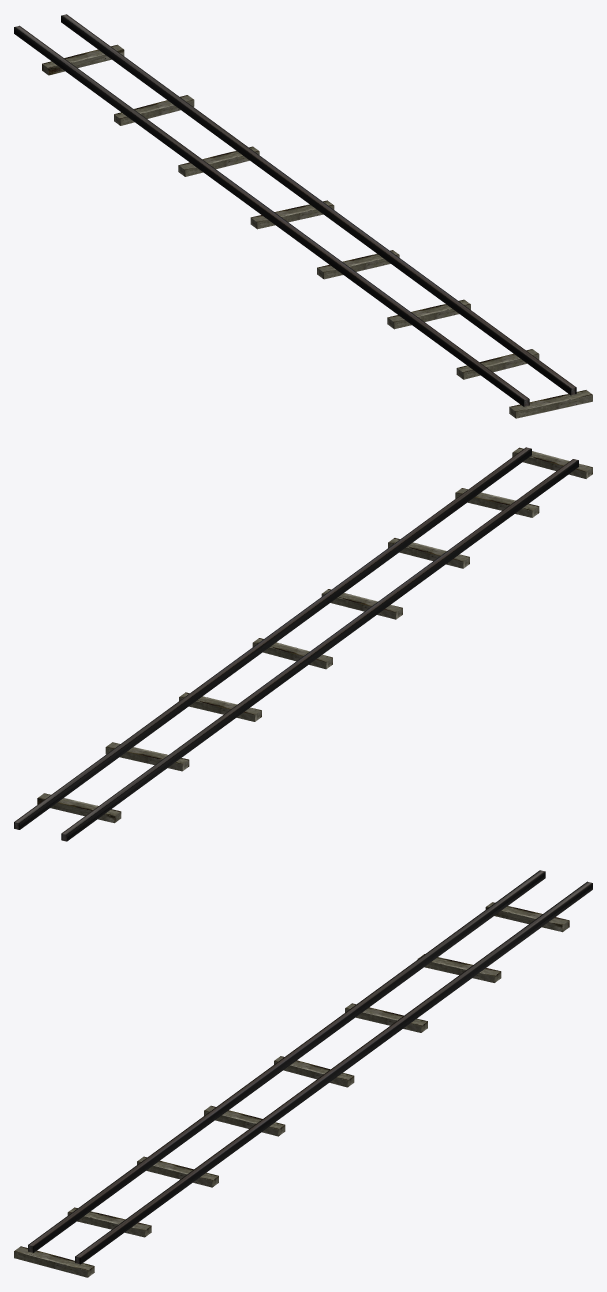
The model's file is pir_m_prp_mng_track_straight_no_dirt.fbx.
3 renders of one model, top to bottom at view 1: azimuth 30°, elevation 25°; view 2: azimuth 150°, elevation 25°; view 3: azimuth 330°, elevation 25°, orthographic.
Parts seen in each view (by area): view 1: rail_1, rail, pCube19, pCube20, pCube12, pCube17, pCube7, pCube14, pCube11, pCube9; view 2: rail_1, rail, pCube20, pCube7, pCube9, pCube19, pCube11, pCube17, pCube14, pCube12; view 3: rail, rail_1, pCube19, pCube7, pCube20, pCube9, pCube17, pCube11, pCube12, pCube14.
Part boxes in pixels (<box>): rail_1: <box>61,14,576,395</box>; rail: <box>14,25,529,406</box>; pCube19: <box>509,390,592,418</box>; pCube20: <box>456,349,539,379</box>; pCube12: <box>250,200,334,229</box>; pCube17: <box>387,299,470,329</box>; pCube7: <box>42,44,124,75</box>; pCube14: <box>317,250,399,279</box>; pCube11: <box>178,146,259,176</box>; pCube9: <box>114,95,194,125</box>; rail_1: <box>14,447,531,829</box>; rail: <box>61,459,578,841</box>; pCube20: <box>455,488,539,517</box>; pCube7: <box>37,793,121,823</box>; pCube9: <box>105,742,189,771</box>; pCube19: <box>512,447,592,478</box>; pCube11: <box>179,692,261,721</box>; pCube17: <box>388,538,469,568</box>; pCube14: <box>321,589,402,619</box>; pCube12: <box>252,638,332,669</box>; rail: <box>28,870,545,1252</box>; rail_1: <box>75,881,592,1264</box>; pCube19: <box>14,1246,94,1277</box>; pCube7: <box>485,902,569,932</box>; pCube20: <box>67,1207,151,1237</box>; pCube9: <box>417,954,501,982</box>; pCube17: <box>137,1156,218,1187</box>; pCube11: <box>345,1003,427,1032</box>; pCube12: <box>274,1056,354,1087</box>; pCube14: <box>204,1105,285,1136</box>.
Bounding box in the file's own units: 393 × 63.48 × 4385.
1 material, 1 textured.
